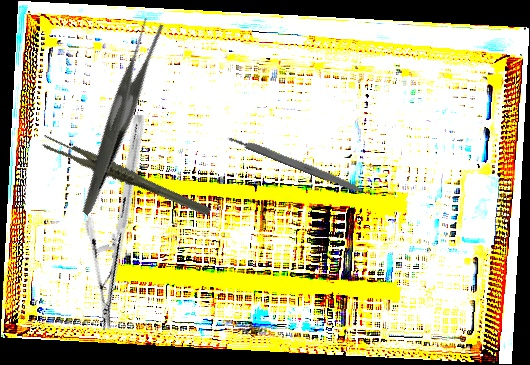Dressing Forceps: (27, 14, 209, 216)
Needle Holder: (35, 112, 210, 333)
Scalpel Handle: (225, 131, 370, 197)
Tissue Forceps: (37, 107, 214, 246)
